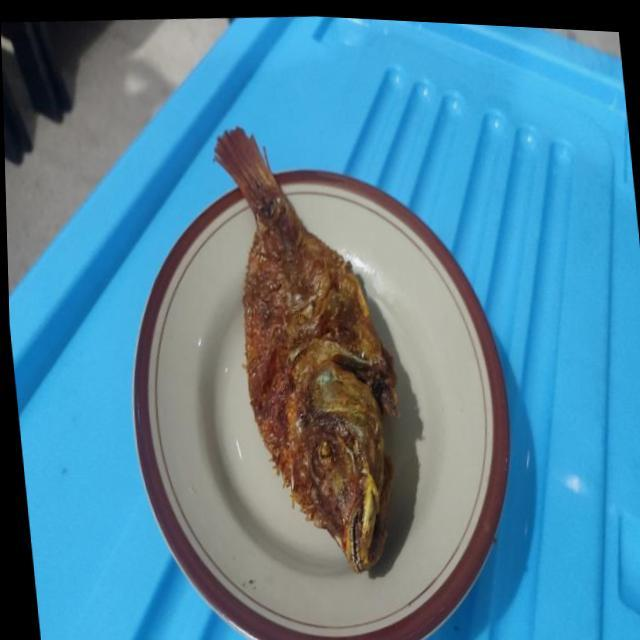ikan_mujair: (214, 126, 397, 572)
